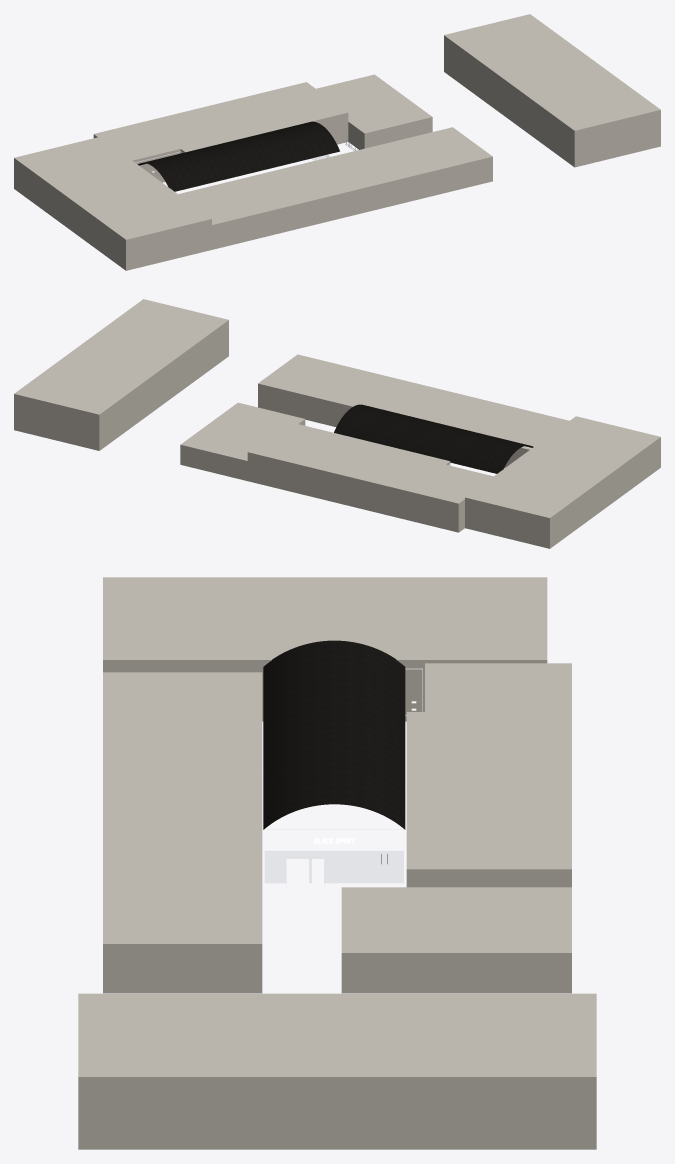
Rendered from escena_movil.glb.
The picture shows the model from 3 angles, top to bottom: view 1: azimuth 30°, elevation 25°; view 2: azimuth 150°, elevation 25°; view 3: azimuth 270°, elevation 25°; orthographic projection. The views are drawn at different scales.
Visible parts, largest first — view 1: ctx|neighbor, ceil|roof; view 2: ctx|neighbor, ceil|roof; view 3: ctx|neighbor, ceil|roof, base|glass.
Boxes of the visible parts, x1,y1,x2,y2 form: ctx|neighbor: (14, 14, 660, 270); ceil|roof: (138, 121, 339, 191); ctx|neighbor: (14, 299, 660, 548); ceil|roof: (334, 404, 533, 473); ctx|neighbor: (78, 577, 596, 1149); ceil|roof: (263, 640, 405, 829); base|glass: (265, 851, 403, 882).
Size of what is drawn, in the model's own units: 98 by 7.2 by 42.
Materials: 15 (5 with a texture image).
